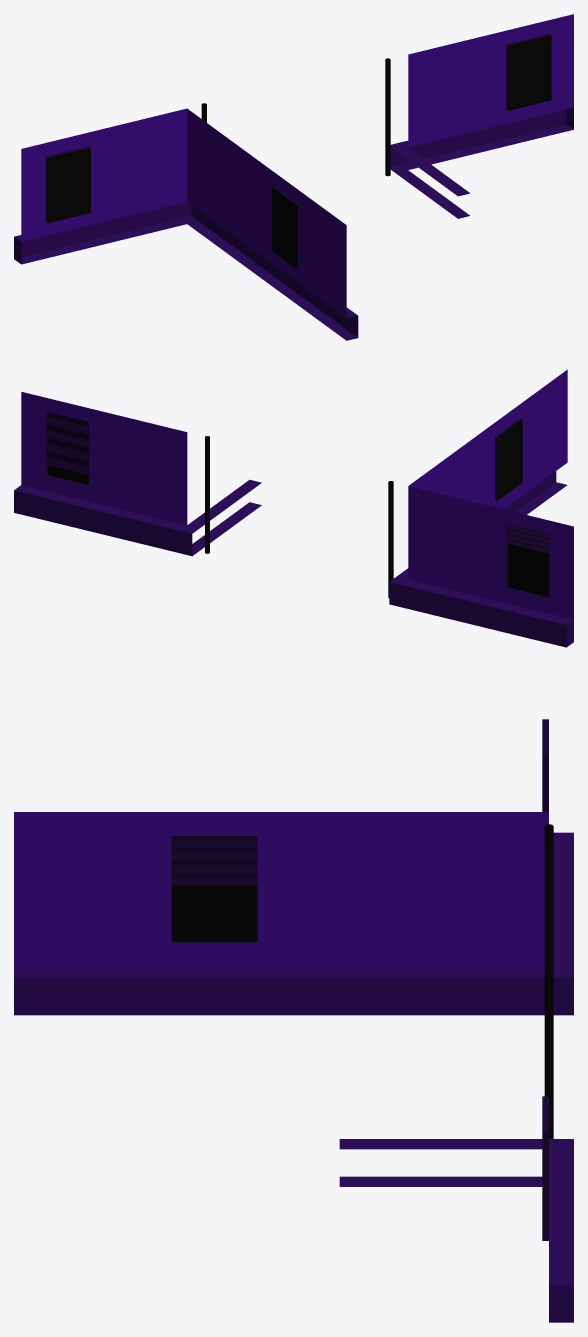
Rendered from RunnablePartHole1.fbx.
3 renders of one model, top to bottom at view 1: azimuth 30°, elevation 25°; view 2: azimuth 150°, elevation 25°; view 3: azimuth 270°, elevation 25°, orthographic. The views are drawn at different scales.
Parts seen in each view (by area): view 1: Plane.009; view 2: Plane.009; view 3: Plane.009.
Boxes of the visible parts, <box> form: Plane.009: <box>14,14,573,340</box>; Plane.009: <box>14,369,573,647</box>; Plane.009: <box>14,719,573,1322</box>.
Bounding box in the file's own units: 10000 × 2000 × 5232.
